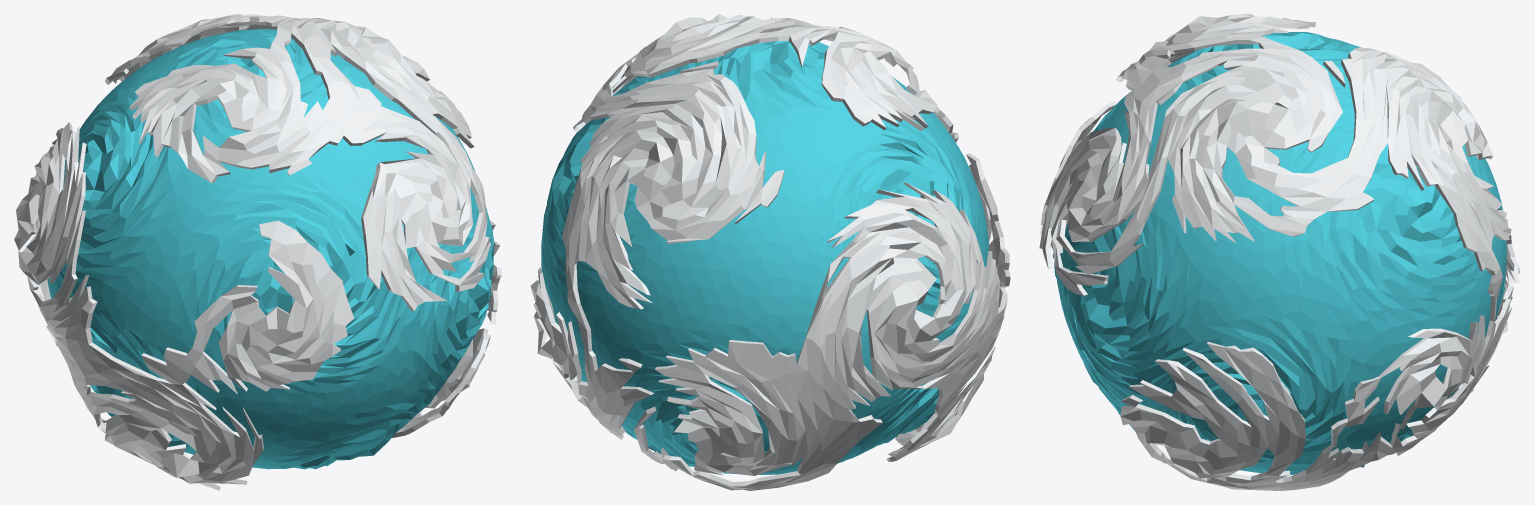
Rendered from PlanetBlueWithClouds.glb.
The picture shows the model from 3 angles, left to right: view 1: azimuth 30°, elevation 25°; view 2: azimuth 150°, elevation 25°; view 3: azimuth 270°, elevation 25°; orthographic projection.
Parts seen in each view (by area): view 1: Planet_16; view 2: Planet_16; view 3: Planet_16.
Boxes of the visible parts, x1,y1,x2,y2 form: Planet_16: (14,14,501,490); Planet_16: (530,14,1010,490); Planet_16: (1039,14,1520,490).
Size of the model in its own units: 21.19 by 20.16 by 21.23.
Materials: 1 (1 with a texture image).
